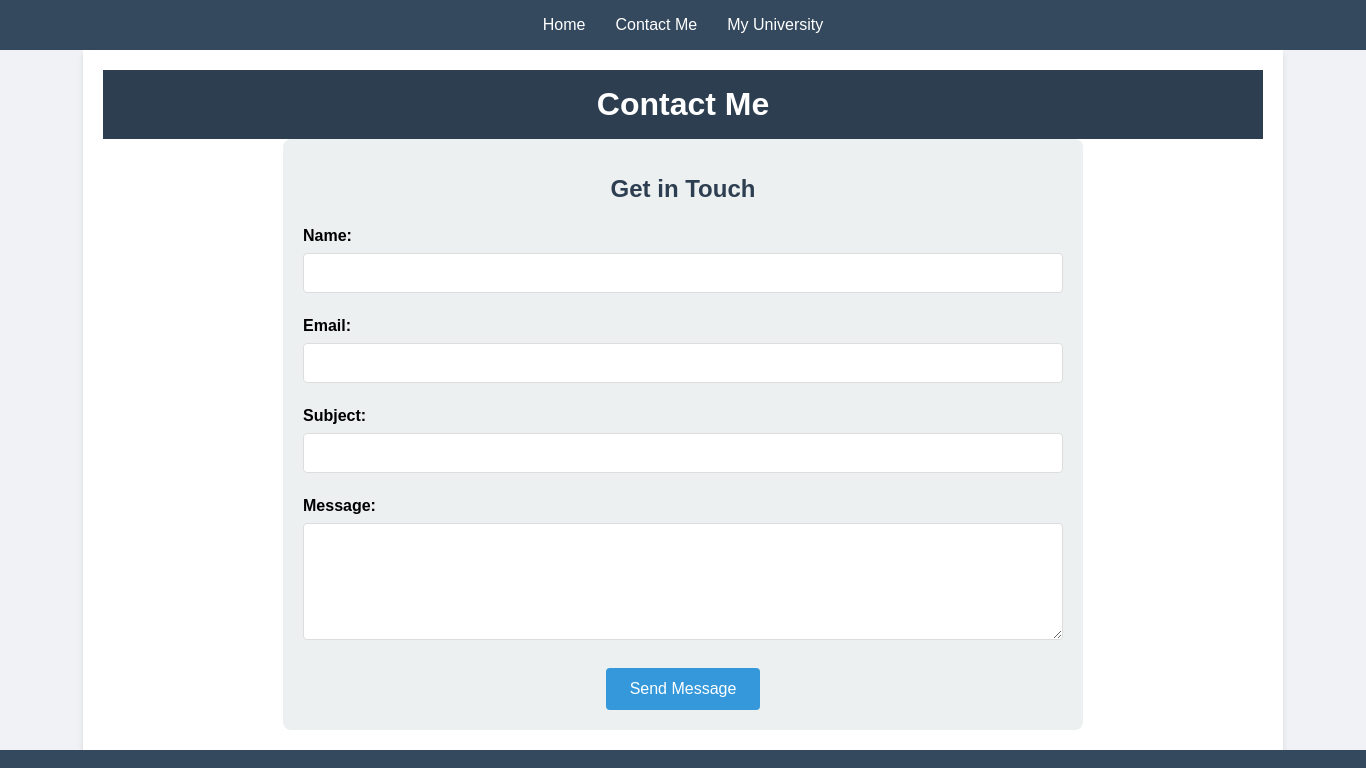
Test case: Contact Form Submission › should submit the contact form successfully
// Fill out form fields
Type "Test User" into the field with id "name".
click(683, 273); type("Test User")  # box x1=303 y1=253 x2=1063 y2=293
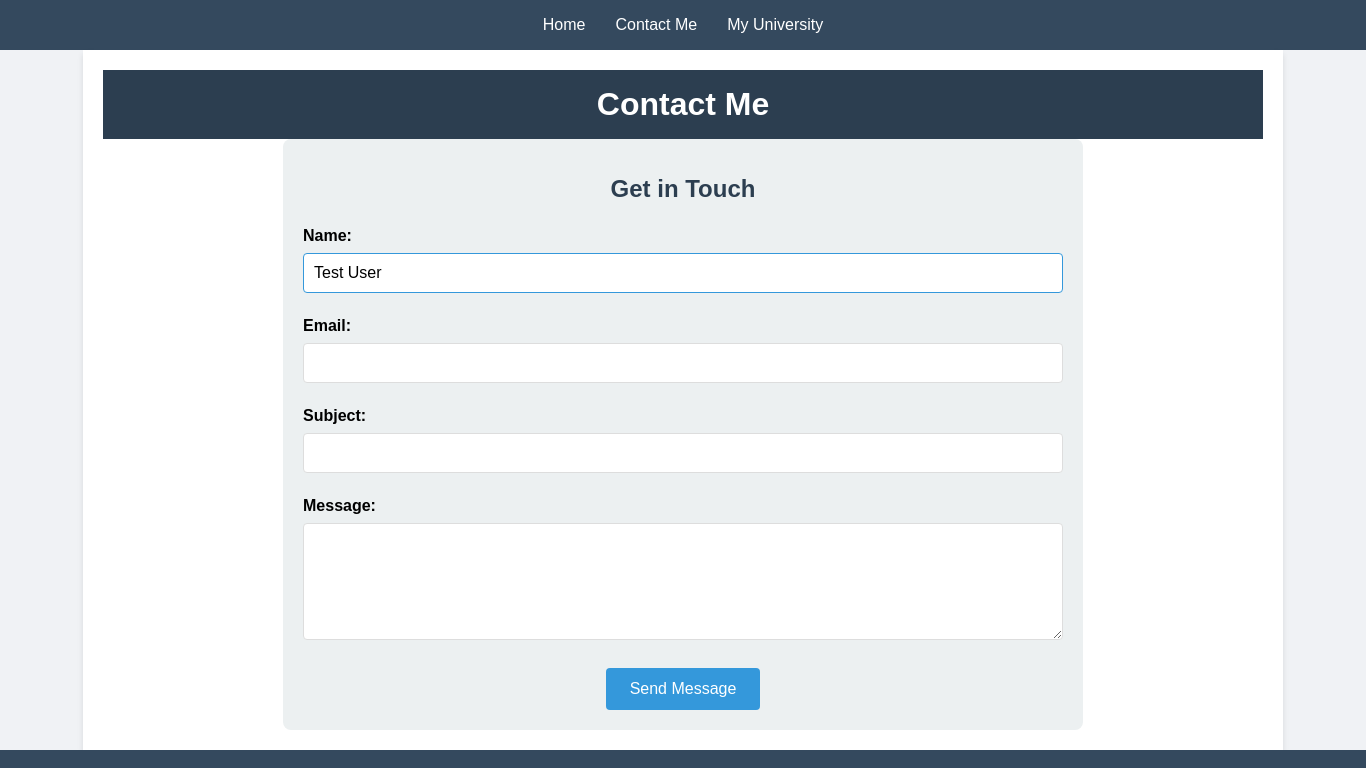
Type "test@example.com" into the field with id "email".
click(683, 363); type("test@example.com")  # box x1=303 y1=343 x2=1063 y2=383
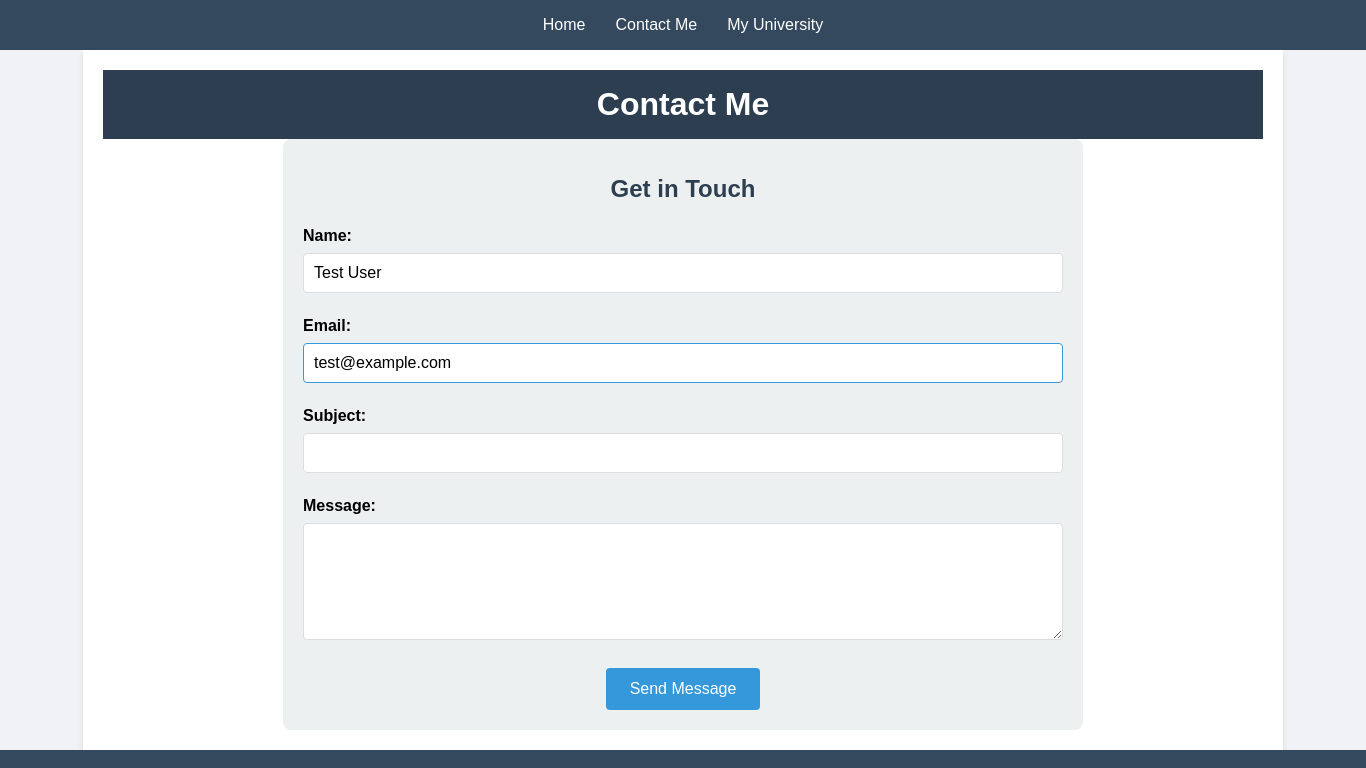
Type "E2E Test Subject" into the field with id "subject".
click(683, 453); type("E2E Test Subject")  # box x1=303 y1=433 x2=1063 y2=473
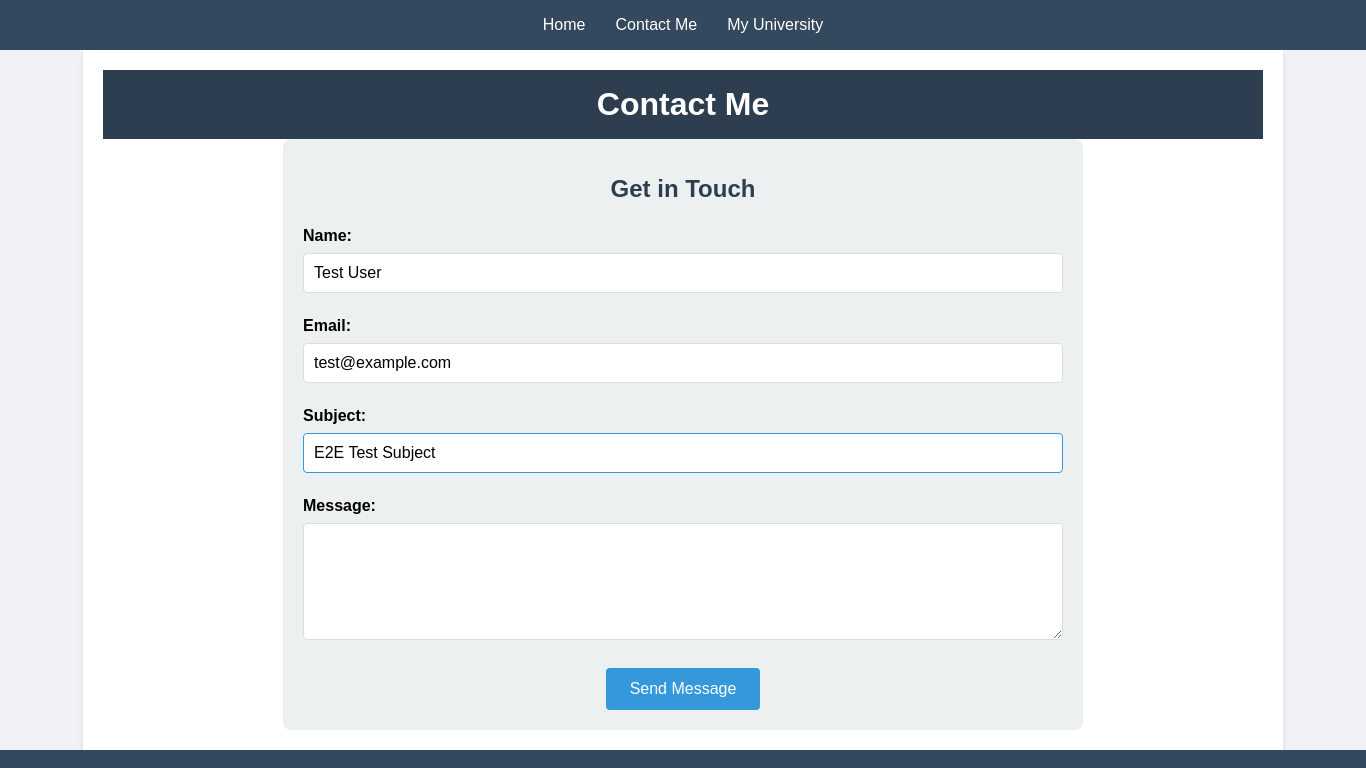
Type "This is an automated test message from Cypress." into the text box with id "message".
click(683, 582); type("This is an automated test message from Cypress.")  # box x1=303 y1=523 x2=1063 y2=640
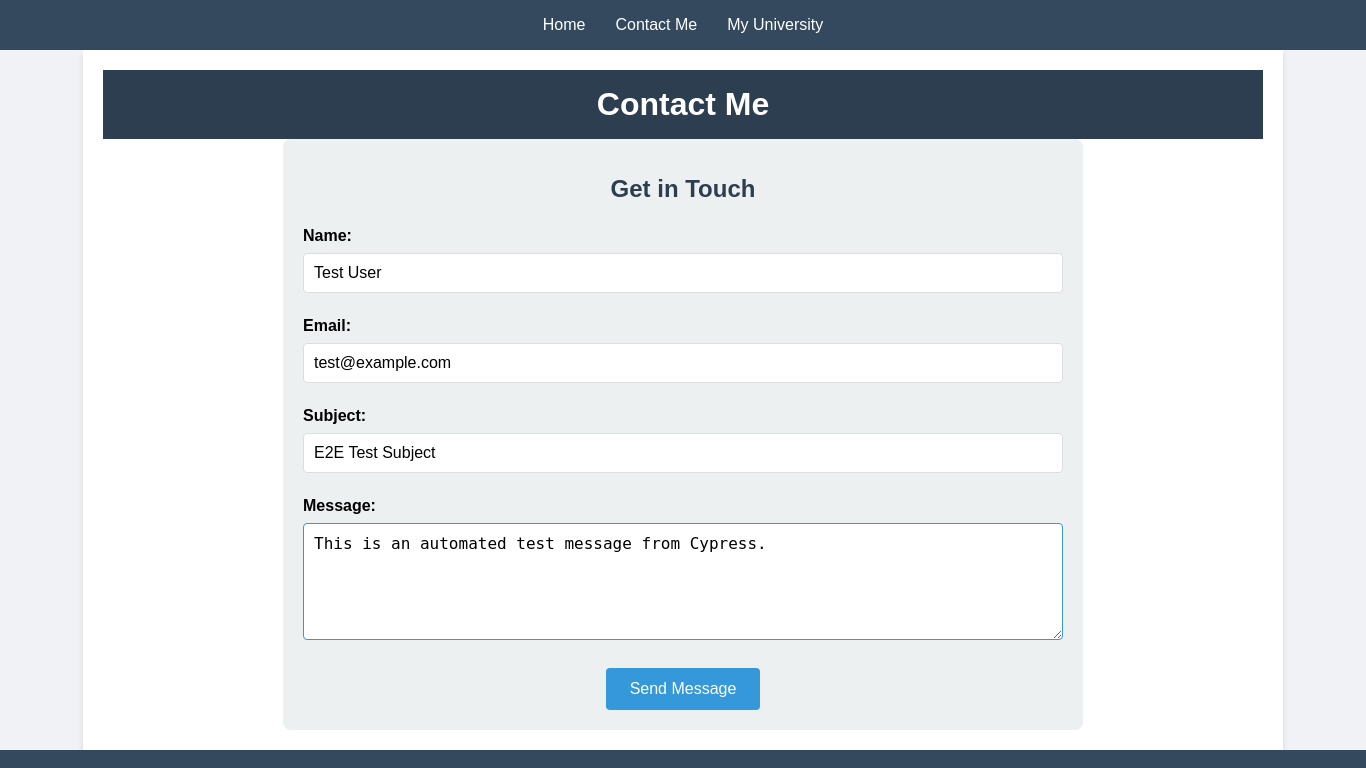
// Submit the form
Click the submit button.
click(684, 689)  # box x1=606 y1=668 x2=761 y2=710
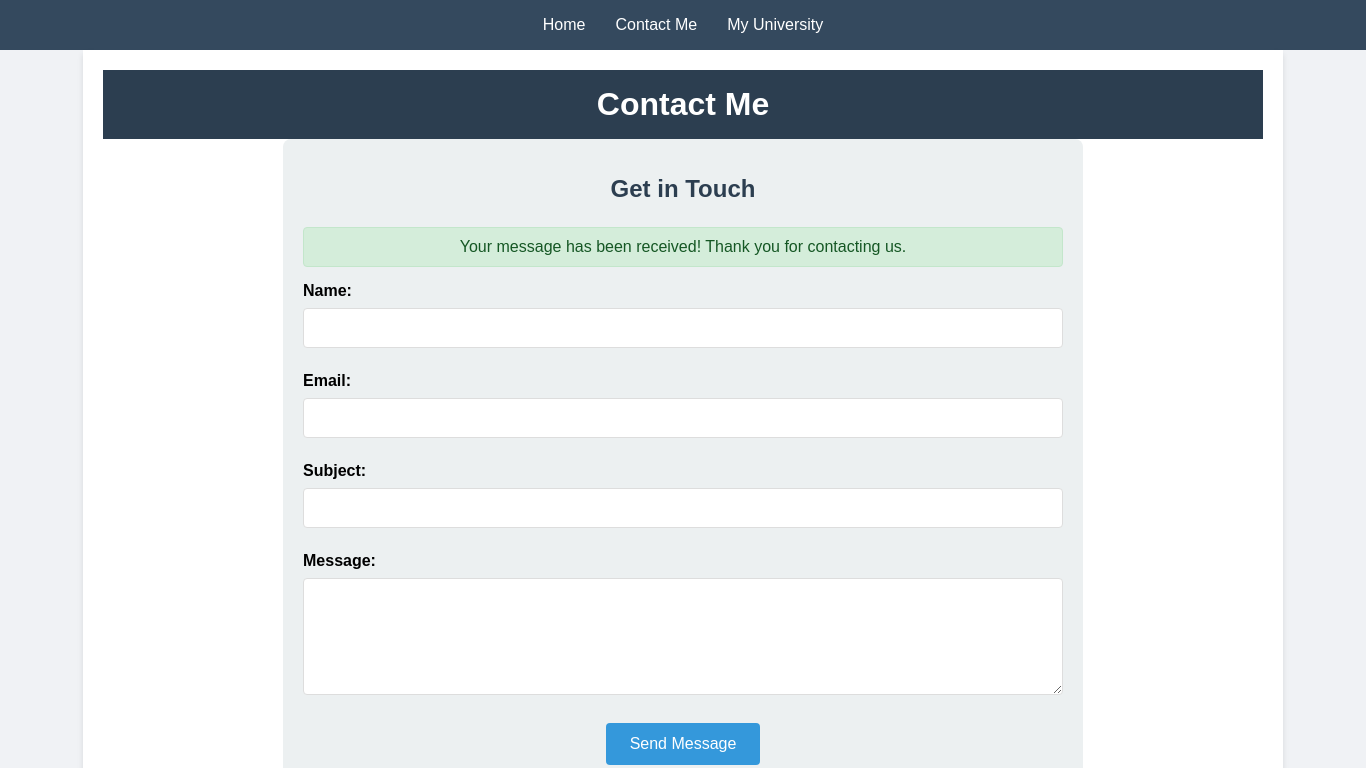
Check: the text "Your message has been received! Thank you for contacting us." is shown, box x1=303 y1=227 x2=1063 y2=267
Check: the text with class "success" shows "Your message has been received", box x1=460 y1=238 x2=907 y2=255
